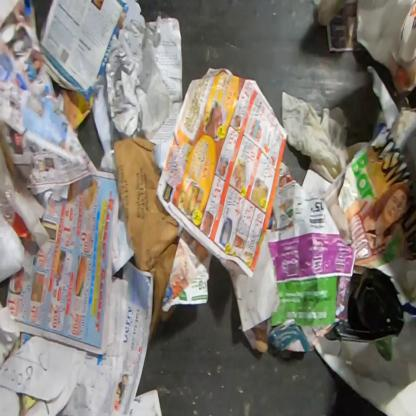cardboard: (112, 135, 180, 335), (255, 320, 269, 354)
rigid_plastic: (324, 268, 404, 342), (0, 152, 17, 239)
soft_plastic: (104, 14, 172, 141)
